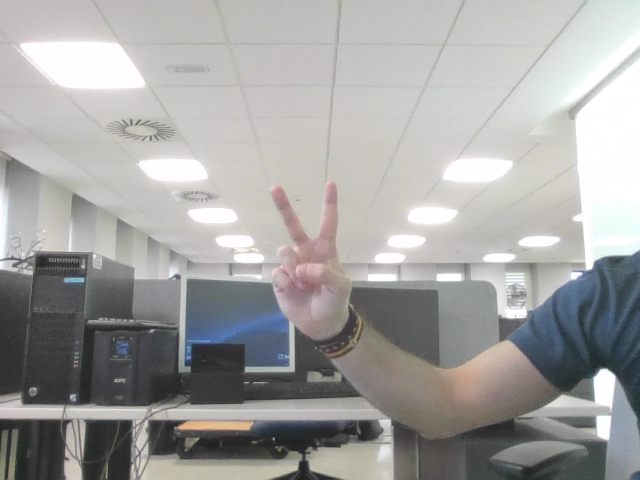2Dedos: (279, 193, 336, 300)
